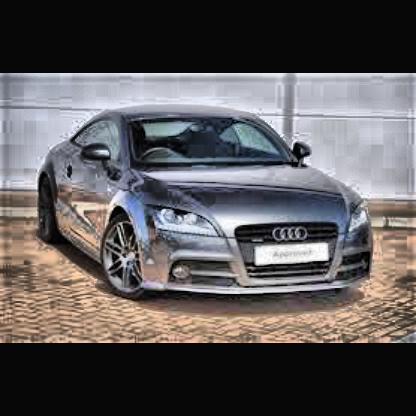Audi TT Hatchback 2011: (40, 104, 379, 306)
